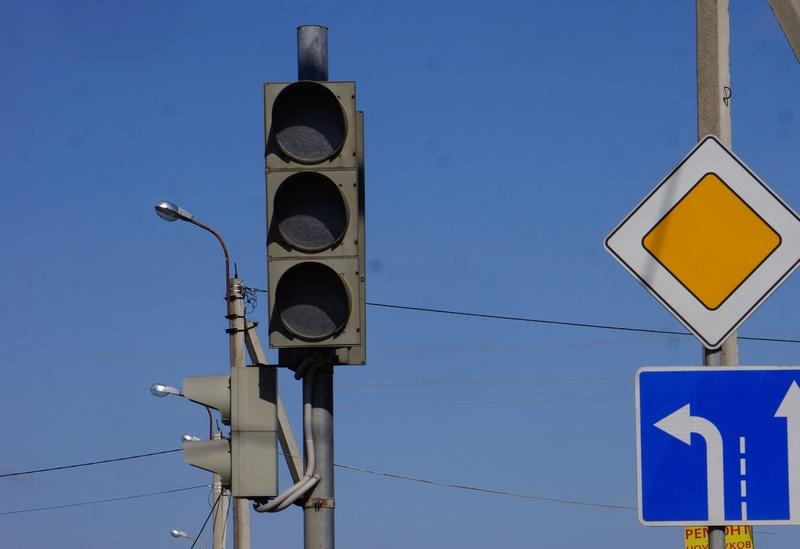obstructed_road_sign: (636, 366, 800, 525)
off traffic light: (264, 79, 362, 348), (183, 367, 278, 501)
road_sign: (605, 136, 799, 350)
